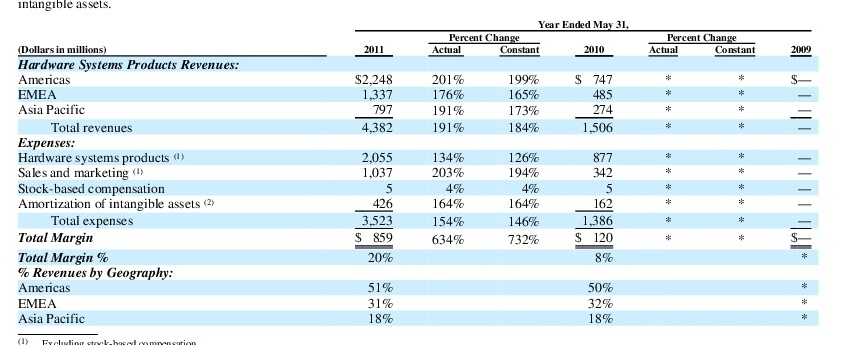table: (0, 0, 842, 345)
